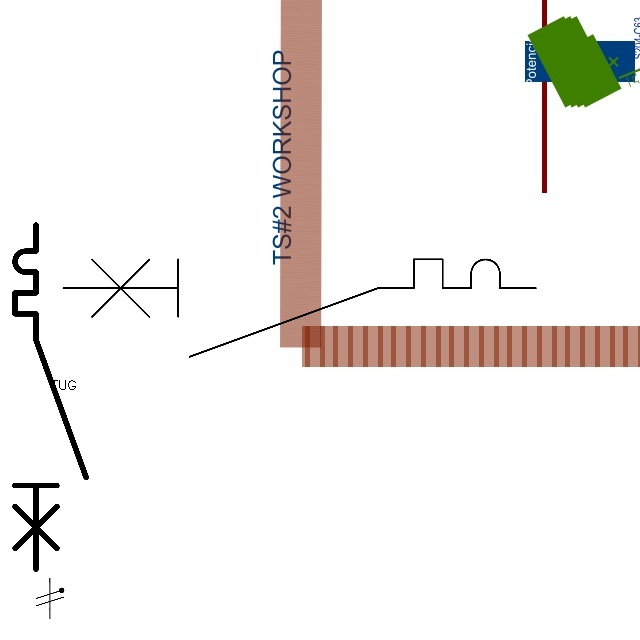interruptor_termomagnetico: (51, 247, 548, 368), (6, 216, 94, 578)
